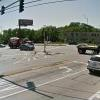Car: (81, 52, 100, 80)
